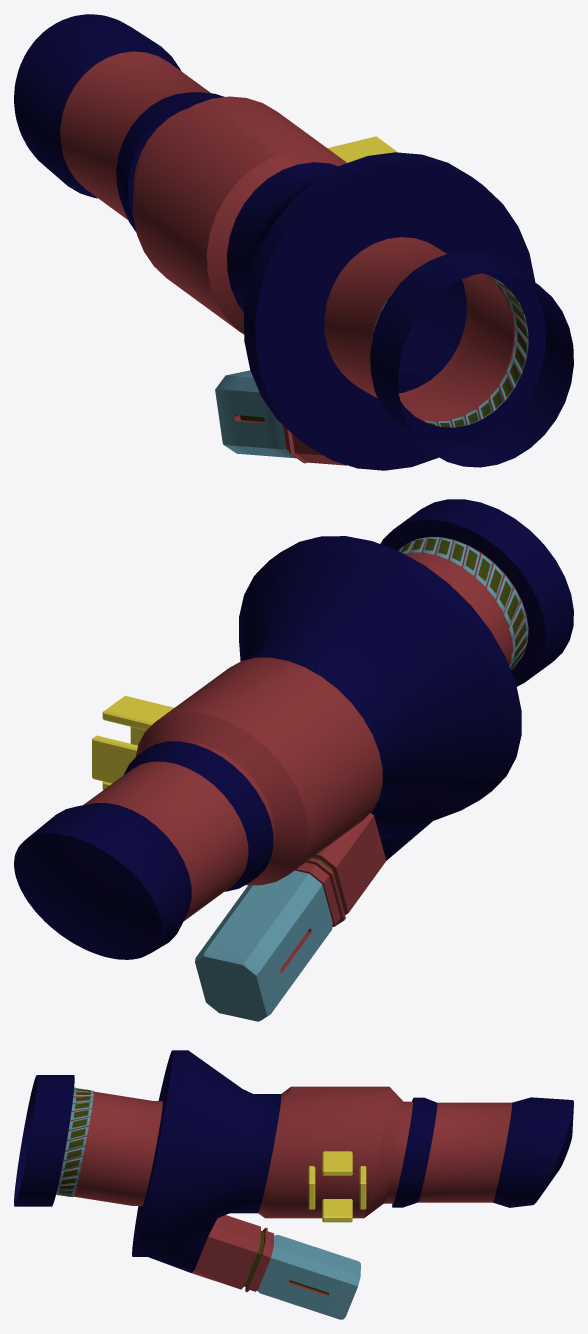
Rendered from New Gun Stock 1.fbx.
3 views of the same model, one above another, from view 1: azimuth 30°, elevation 25°; view 2: azimuth 150°, elevation 25°; view 3: azimuth 270°, elevation 25° (orthographic). The views are drawn at different scales.
Visible parts, largest first — view 1: Stock; view 2: Stock; view 3: Stock.
Boxes of the visible parts, x1,y1,x2,y2 form: Stock: (14, 14, 573, 470); Stock: (14, 499, 573, 1021); Stock: (14, 1050, 573, 1319).
Bounding box in the file's own units: 21.41 × 28.32 × 56.91.
